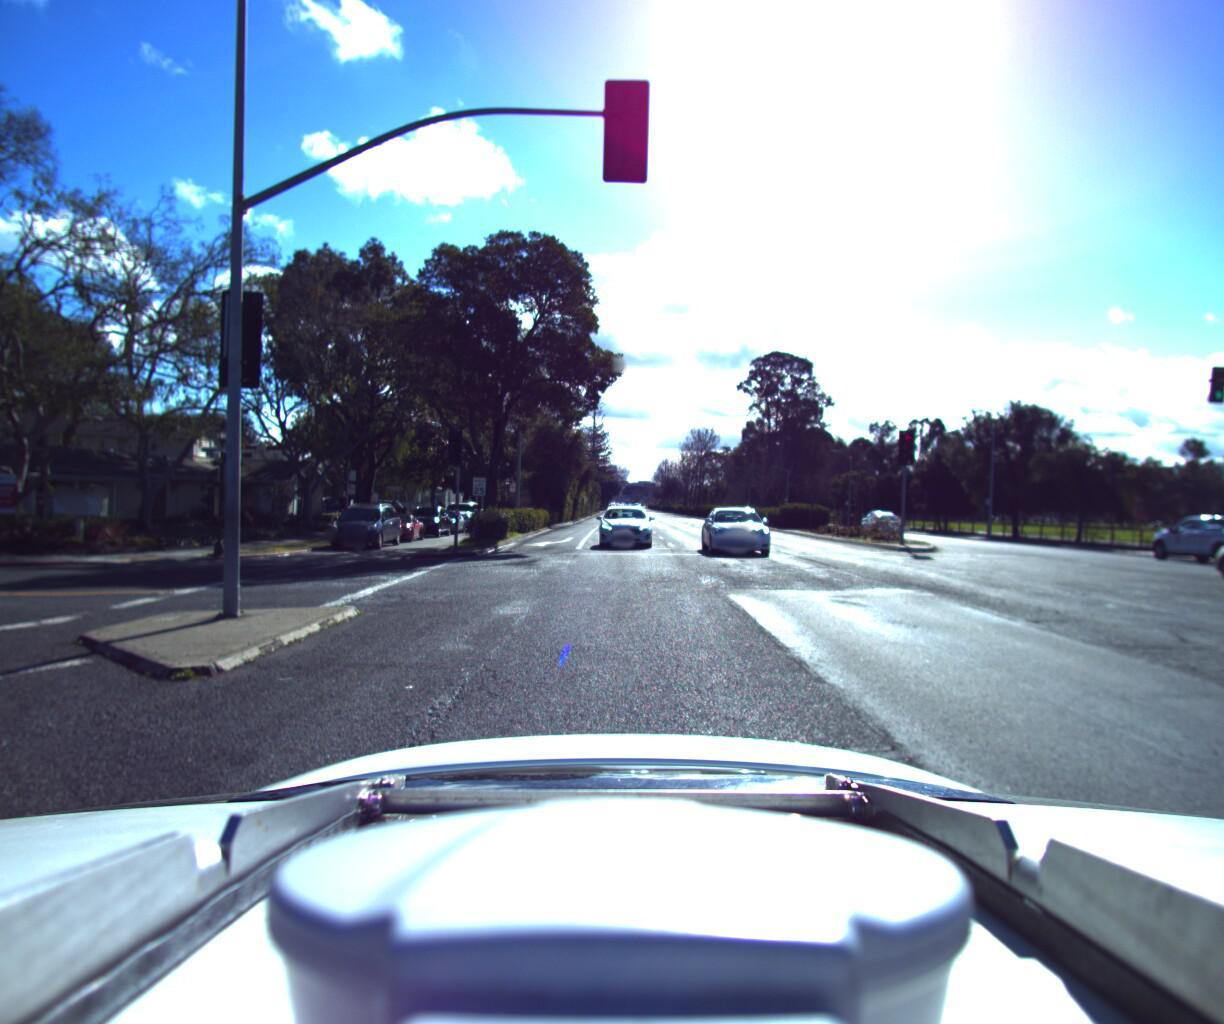car: (1119, 502, 1224, 559), (699, 499, 782, 559), (1162, 511, 1224, 582), (320, 496, 403, 547), (595, 498, 654, 545), (366, 506, 425, 540), (397, 499, 451, 535), (436, 495, 482, 527), (424, 502, 464, 530)
